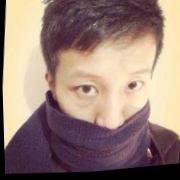WRONG: (52, 56, 156, 170)
